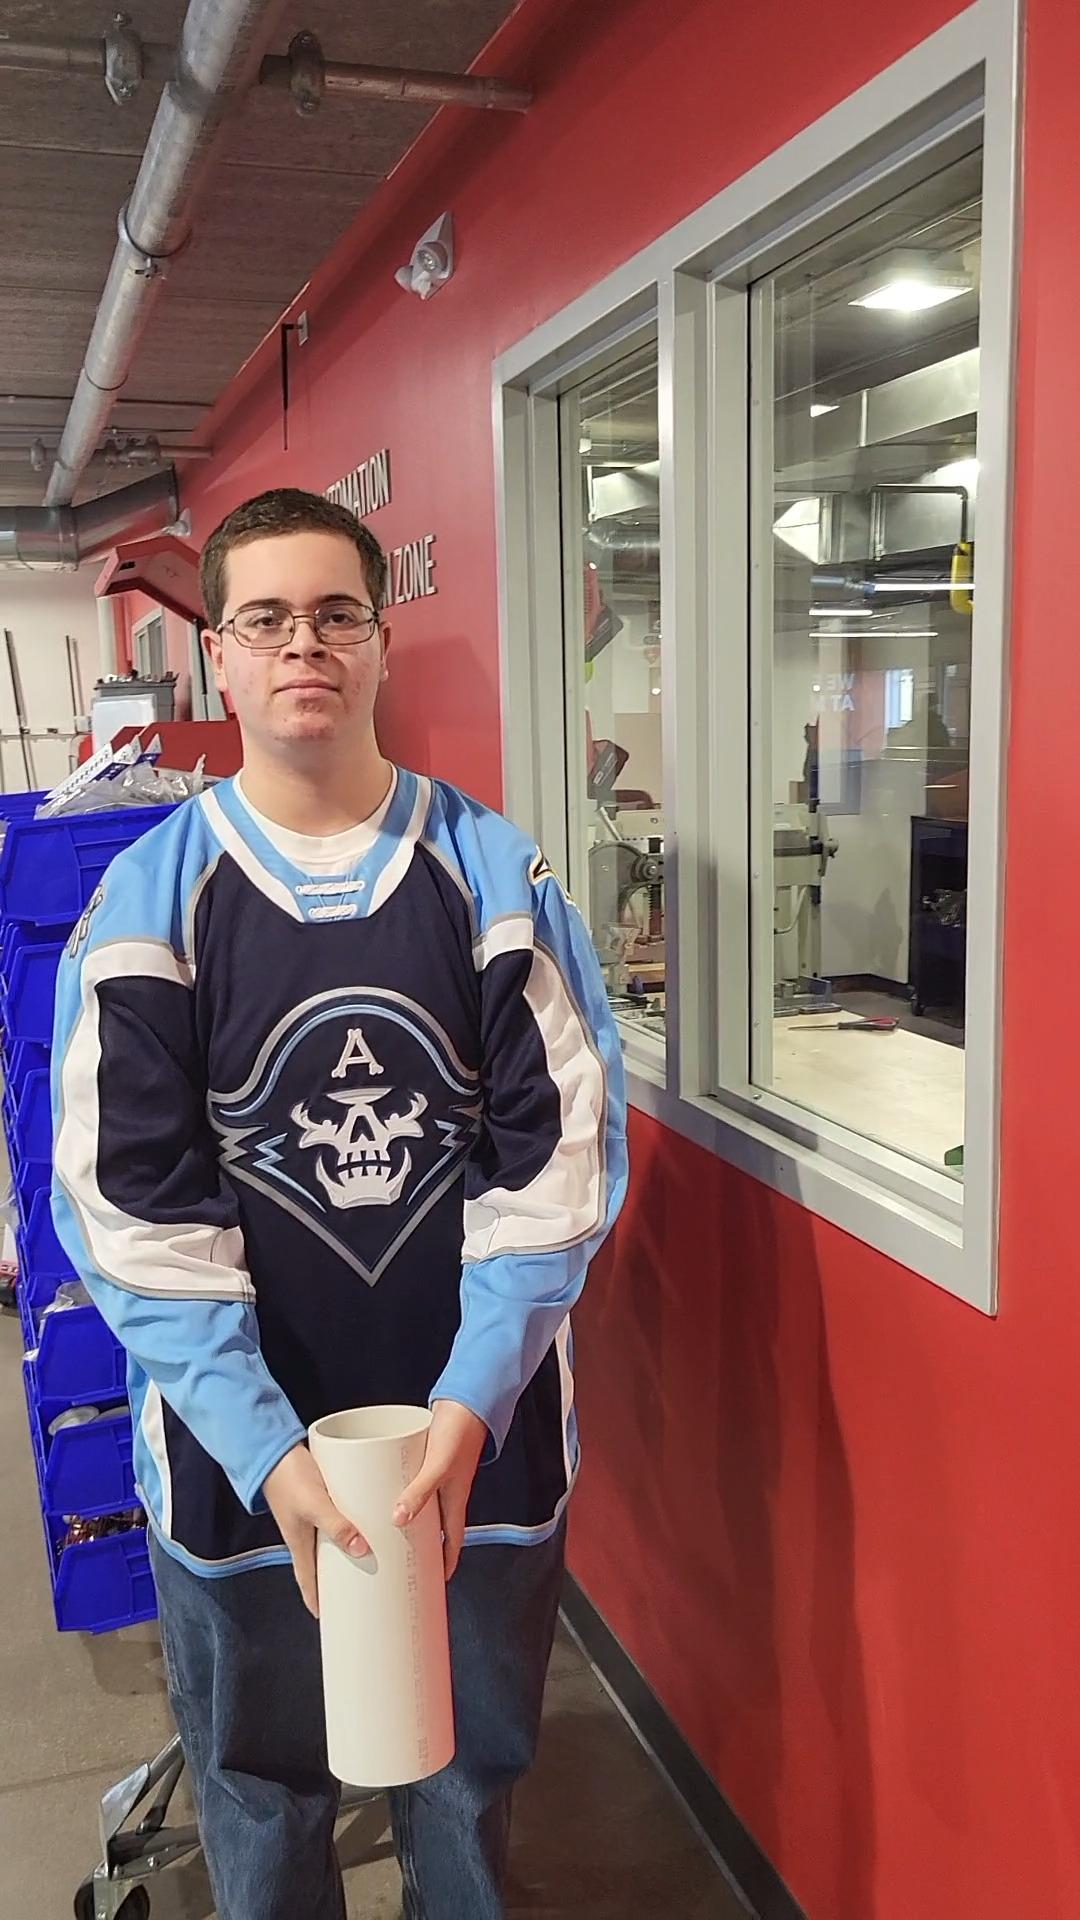coral: (307, 1387, 473, 1791)
